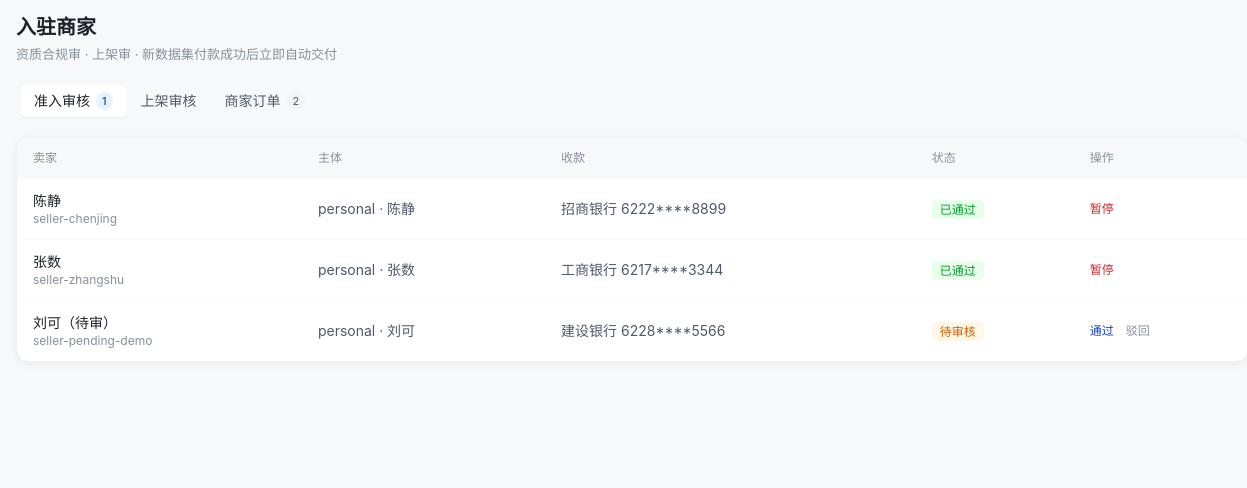
Test: SellerMarketAdmin listing content › shows separate Chinese listing and review labels for draft
This screenshot has width=1247, height=488.
Click the button "上架审核" at (169, 100), box [127,84,211,116]
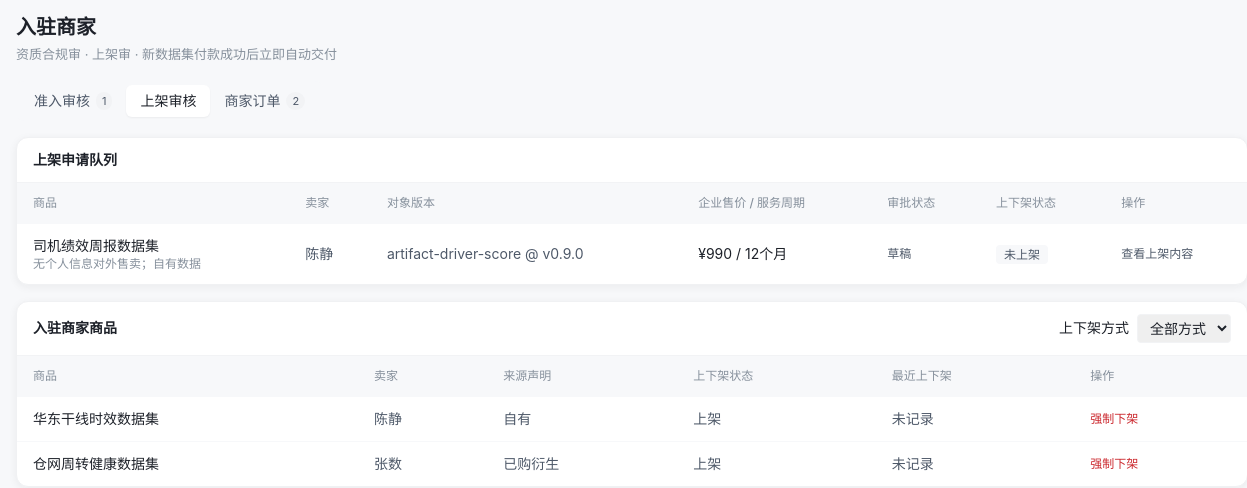
Expected: the column heading with test id "approval-state-heading" reads "审批状态", [887,194,935,210]
Expected: the column heading with test id "listing-state-heading" reads "上下架状态", [996,194,1056,210]
Expected: the cell with test id "listing-state-listing-pending-driver" reads "未上架", [1004,246,1040,262]
